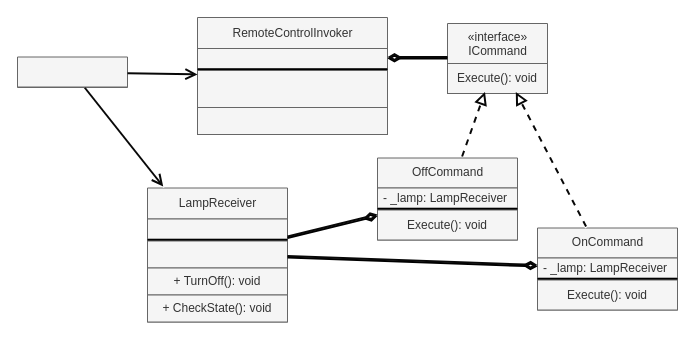
This 696x340 diagram has some shape labels left out. Here are the shapes that lost their labels. From the top down, the centre of each, then its label:
[72,72]: Program
[292,58]: - _command: ICommand
[292,89]: SetCommand(command: ICommand): void
[292,120]: ExecuteCommand(): void
[217,228]: - _state: bool
[217,254]: + TurnOn(): void
